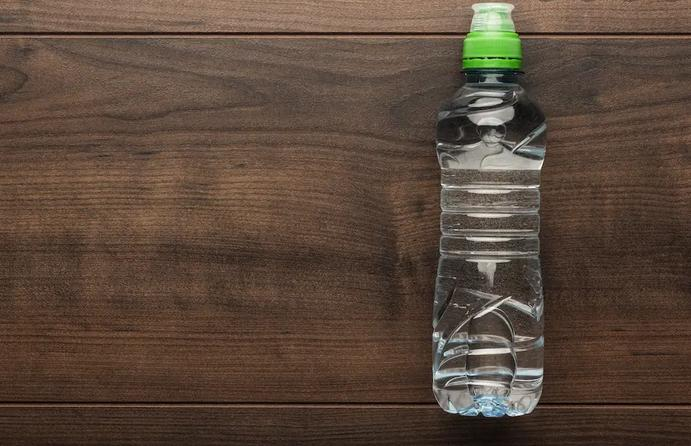Plastic: (431, 1, 550, 424)
